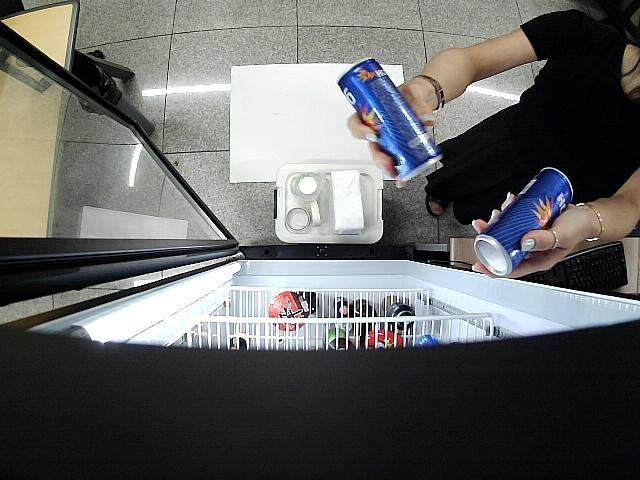16_hot6: (334, 57, 447, 187), (474, 163, 576, 278)
